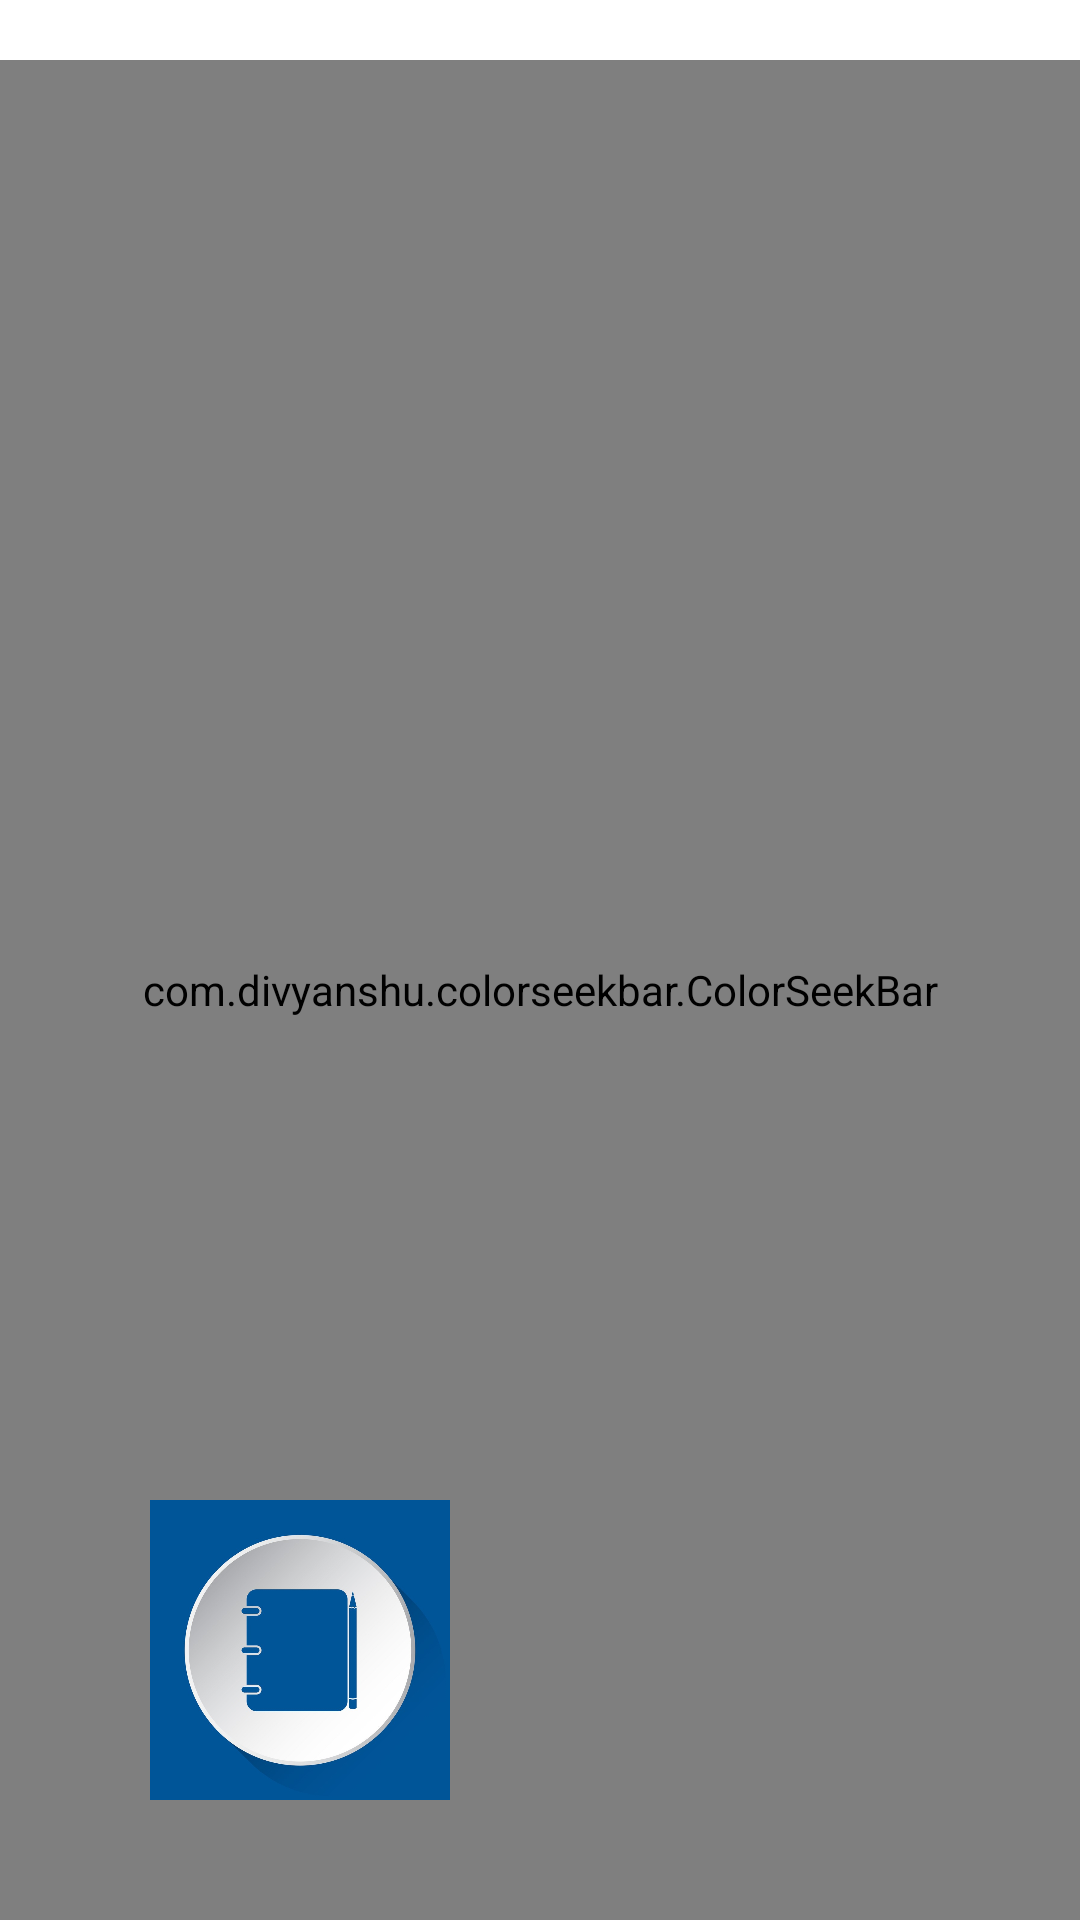

Screen size 1080*1920. Icon name, then its box in pixels as (x1, y1, x2, y2):
notebook: (150, 1500, 450, 1800)
